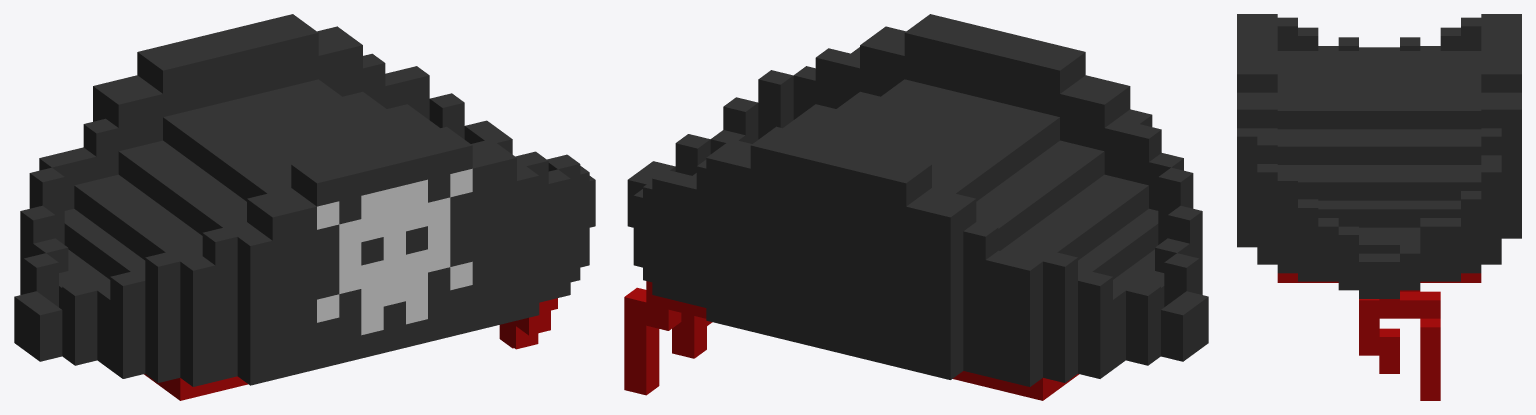
Rendered from accessories_head_piratehat.glb.
3 views of the same model, side by side, from view 1: azimuth 30°, elevation 25°; view 2: azimuth 150°, elevation 25°; view 3: azimuth 270°, elevation 25° (orthographic). The views are drawn at different scales.
Parts seen in each view (by area): view 1: model_0, model_0.001; view 2: model_0, model_0.001; view 3: model_0, model_0.001.
Part boxes in pixels (x1,y1,x2,y2): model_0: (14,14,595,386); model_0.001: (144,298,557,400); model_0: (627,14,1208,386); model_0.001: (624,281,1079,400); model_0: (1237,14,1521,298); model_0.001: (1277,273,1481,400).
Size of the model in its own units: 25 by 14 by 14.
